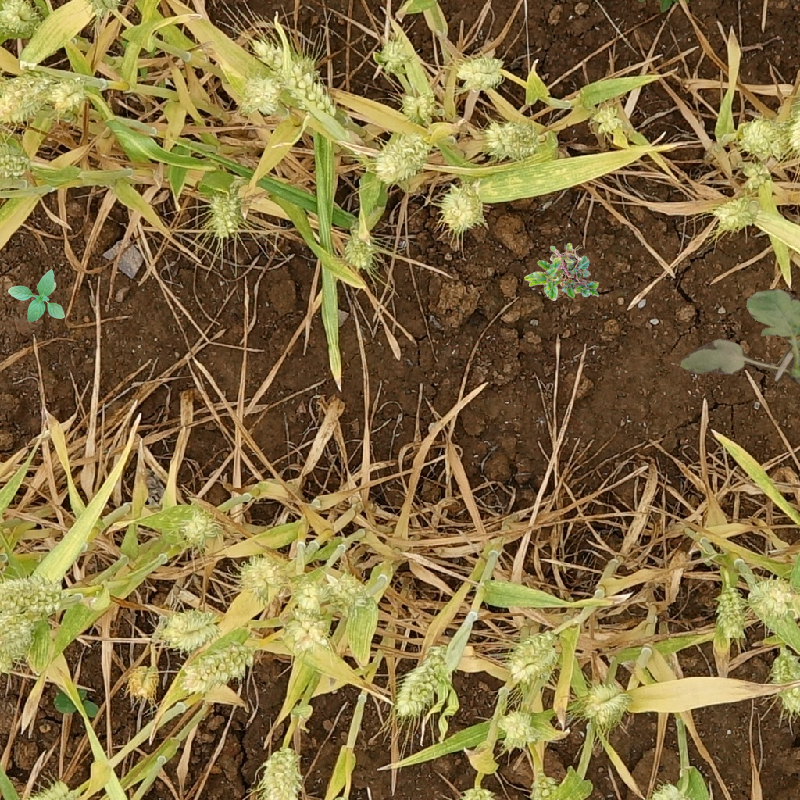spikelet: (253, 38, 340, 122), (391, 644, 454, 720), (179, 639, 257, 694), (371, 130, 429, 183), (505, 628, 560, 683), (156, 606, 220, 650), (1, 572, 65, 614), (482, 117, 543, 161), (1, 72, 52, 123), (258, 744, 304, 799), (438, 181, 485, 234), (48, 72, 100, 117), (580, 679, 629, 726), (237, 552, 284, 600), (748, 574, 798, 619), (284, 606, 331, 653), (1, 607, 35, 671), (327, 567, 373, 612), (206, 187, 245, 240), (454, 52, 505, 92), (770, 648, 800, 714), (713, 583, 747, 641), (176, 504, 220, 548), (736, 115, 783, 156), (711, 194, 759, 232), (496, 708, 538, 751), (341, 224, 378, 272), (122, 662, 167, 700), (241, 73, 281, 115), (586, 100, 624, 138), (1, 1, 40, 38), (291, 572, 328, 611), (398, 88, 436, 124), (374, 37, 409, 74), (22, 777, 78, 800), (1, 143, 32, 181), (526, 772, 563, 800), (645, 779, 693, 800), (740, 159, 773, 189), (85, 1, 127, 17), (459, 782, 498, 799), (788, 98, 799, 154)
weed: (680, 289, 800, 386), (524, 243, 599, 301), (8, 269, 65, 322)
